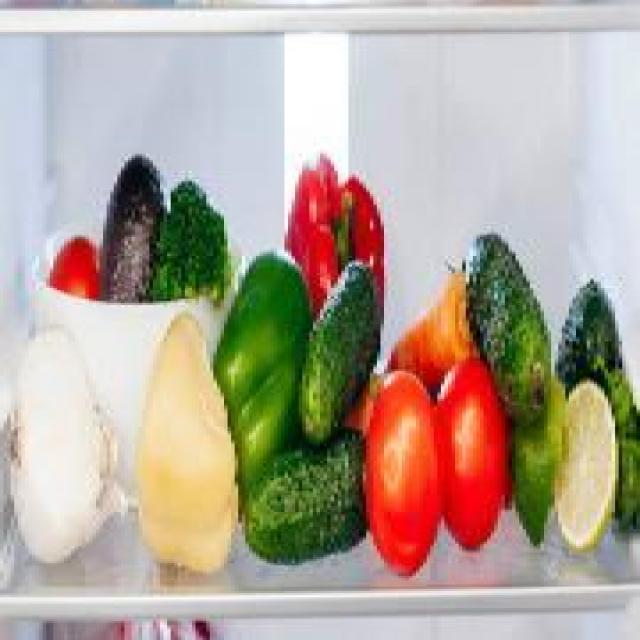avocado: (98, 148, 162, 315)
bell_pepper: (214, 242, 316, 526)
carrot: (379, 258, 478, 395)
cucumber: (462, 223, 558, 434), (236, 422, 372, 568), (297, 248, 382, 454)
lemon: (553, 382, 617, 555)
onion: (5, 323, 130, 575)
tomato: (363, 368, 448, 583), (432, 344, 507, 554)
